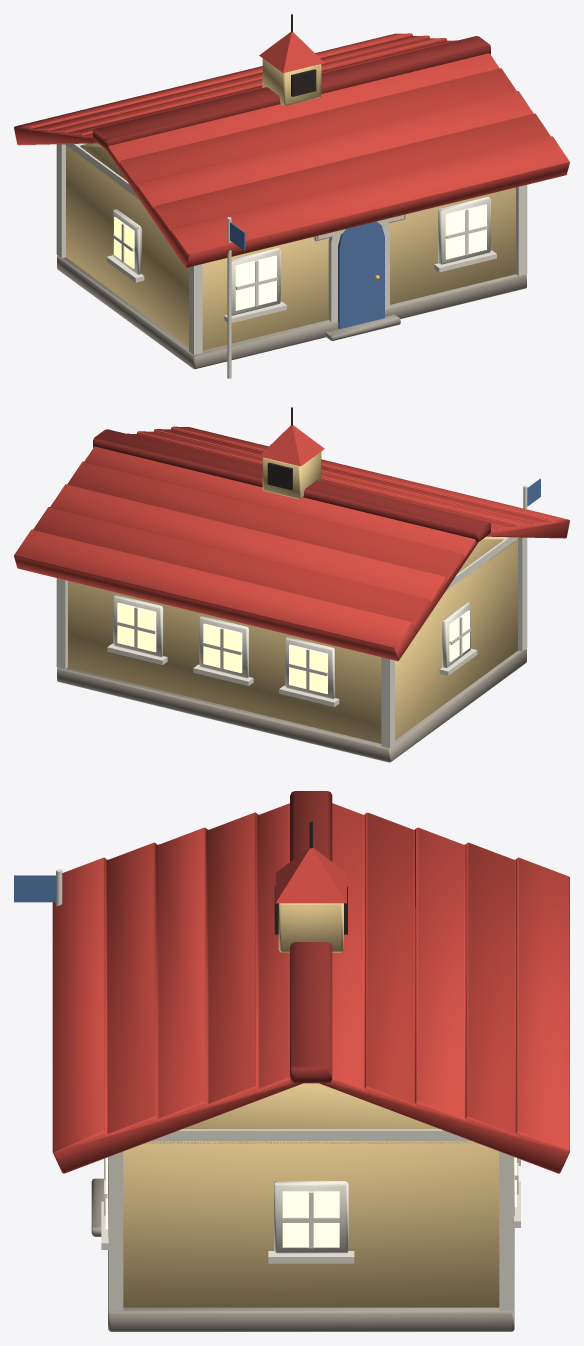
The model's file is v_school.glb.
3 views of the same model, one above another, from view 1: azimuth 30°, elevation 25°; view 2: azimuth 150°, elevation 25°; view 3: azimuth 270°, elevation 25° (orthographic). The views are drawn at different scales.
Visible parts, largest first — view 1: School; view 2: School; view 3: School.
Boxes of the visible parts, box(x1,y1,x2,y2) form: School: box(14, 14, 569, 378); School: box(14, 407, 569, 762); School: box(14, 791, 569, 1331).
Bounding box in the file's own units: 8.1 × 5.3 × 6.84.
